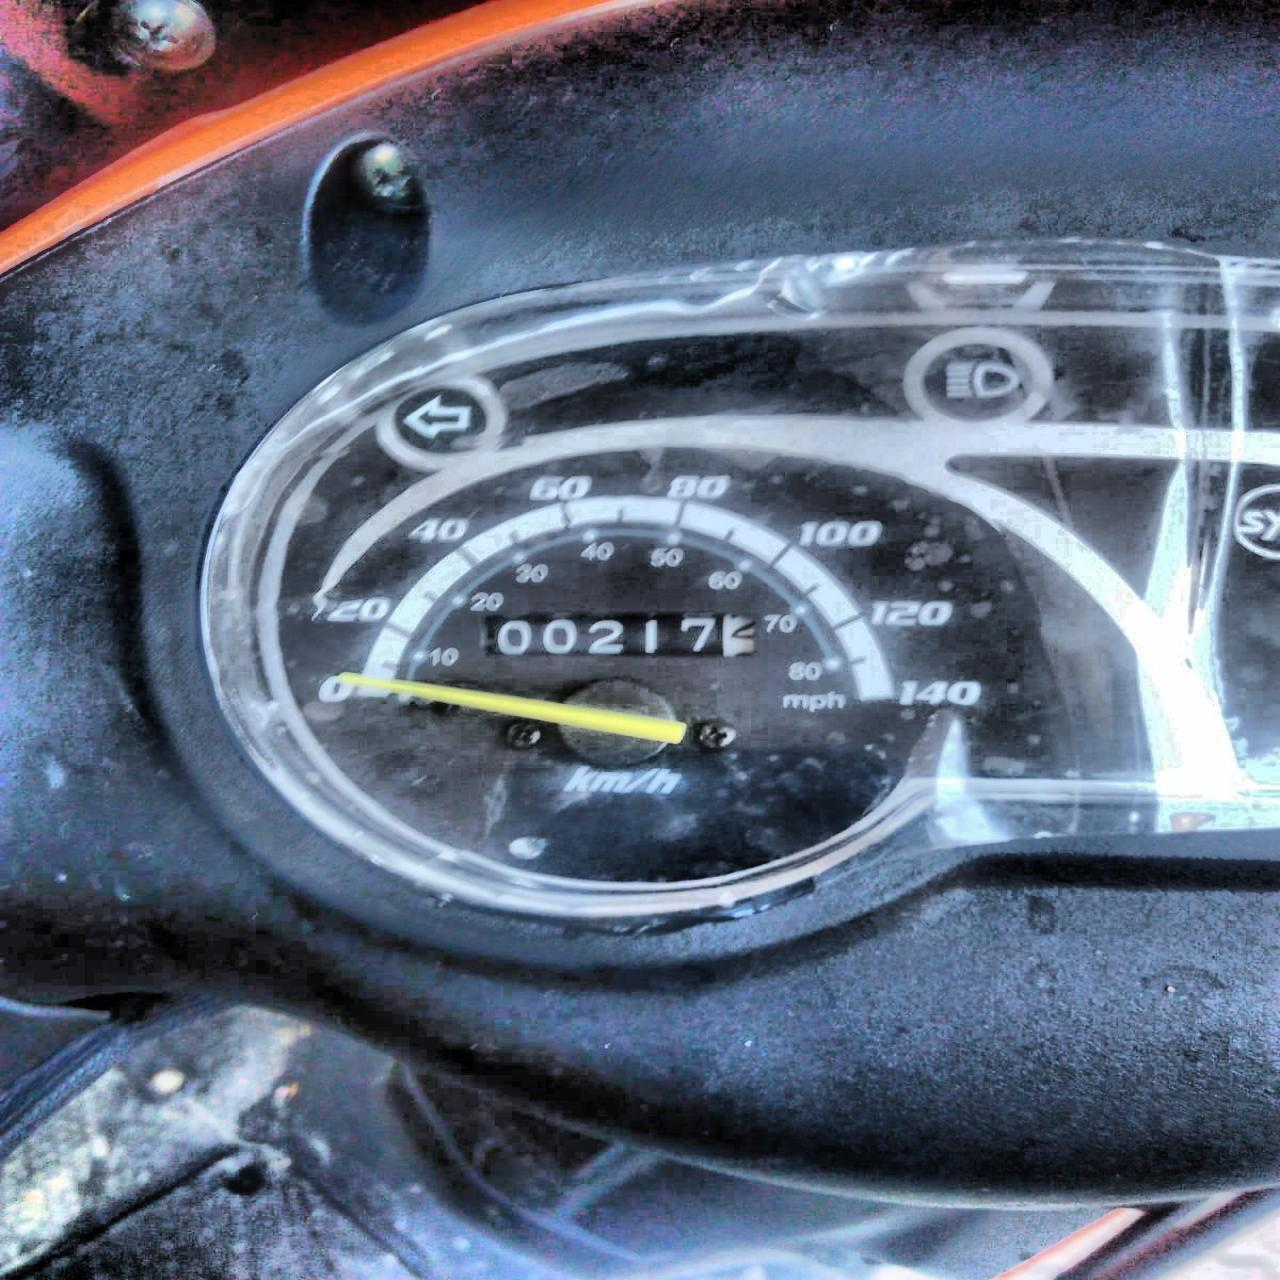0: (540, 618, 577, 653), (495, 620, 530, 654)
1: (642, 618, 658, 653)
2: (587, 619, 625, 654), (728, 611, 756, 639)
7: (679, 618, 716, 652)
odometer: (477, 611, 765, 661)
